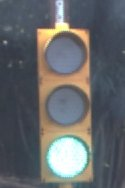Green: (18, 32, 103, 184)
